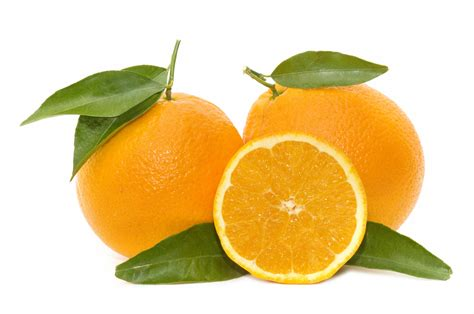orange: (242, 75, 429, 237), (68, 89, 241, 261)
